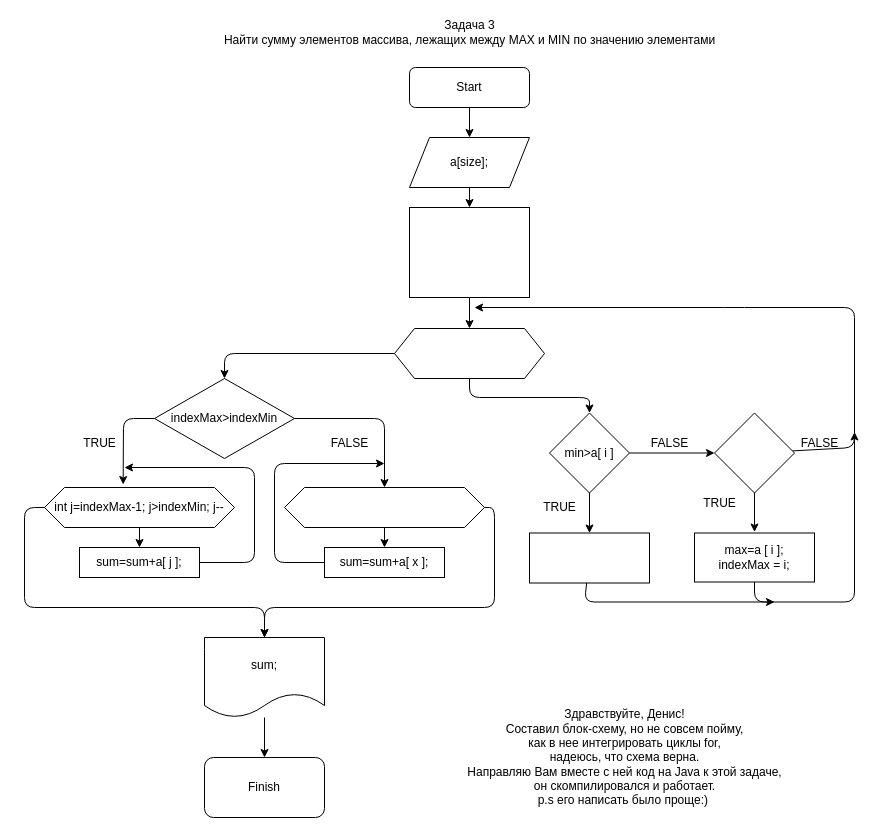
Some shapes in this 880 by 835 pixel diagram are drawn without their labels. Here are the shapes that lost their labels. From the top down, the centre of each, then its label:
At (469,252): "min = a[0]; indexMin = 0; max = a[0]; indexMax = 0; sum = 0;".
At (469,353): "int i = 1; i<size; i++".
At (754,452): "max<a[ i ]".
At (384,507): "int x = indexMin-1; x>indexMax; x--".
At (589,557): "min = a[ i ] indexMin = i;".
